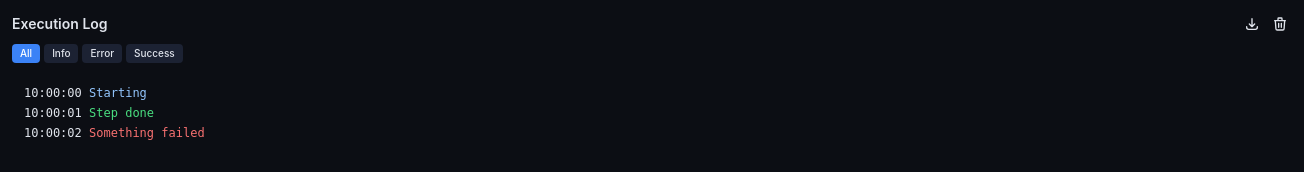
Scenario: ExecutionLog › filters by error
What coordinates should you click on to do the following:
click the button "Error"
I would click on:
 (102, 54)
Its box is [82, 44, 122, 63].
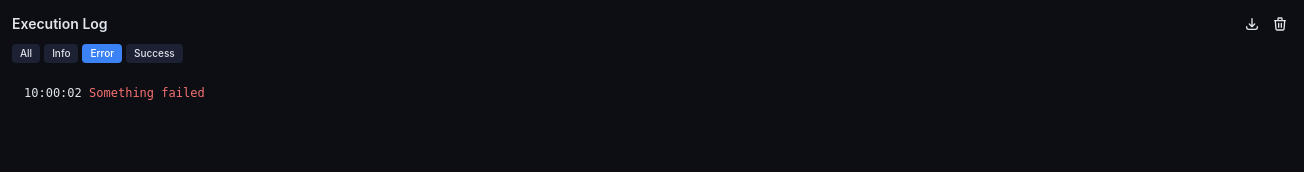
Result: the text "Something failed" is shown at [89, 86, 205, 100]
Result: the text "Starting" is gone
